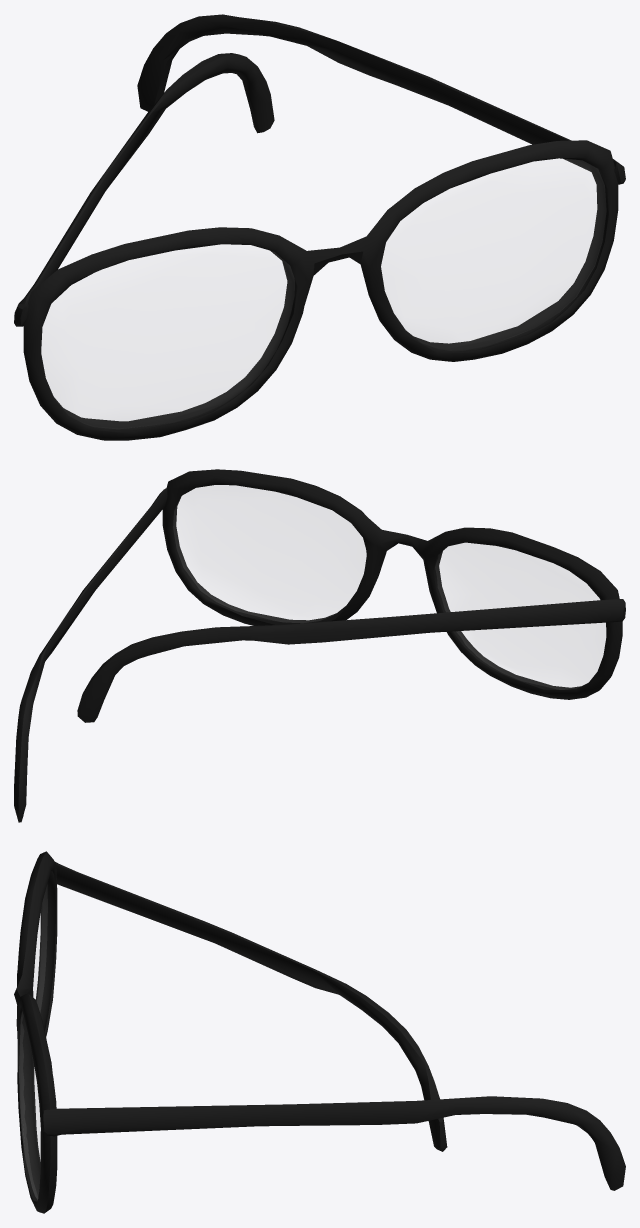
Rendered from Glasses.FBX.
3 renders of one model, top to bottom at view 1: azimuth 30°, elevation 25°; view 2: azimuth 150°, elevation 25°; view 3: azimuth 270°, elevation 25°, orthographic. The views are drawn at different scales.
Parts seen in each view (by area): view 1: glasses; view 2: glasses; view 3: glasses.
Boxes of the visible parts, box(x1,y1,x2,y2) form: glasses: box(14, 14, 625, 440); glasses: box(14, 469, 625, 822); glasses: box(14, 851, 625, 1213).
Size of the model in its own units: 12.92 by 4.08 by 13.05.
2 materials, 1 textured.
